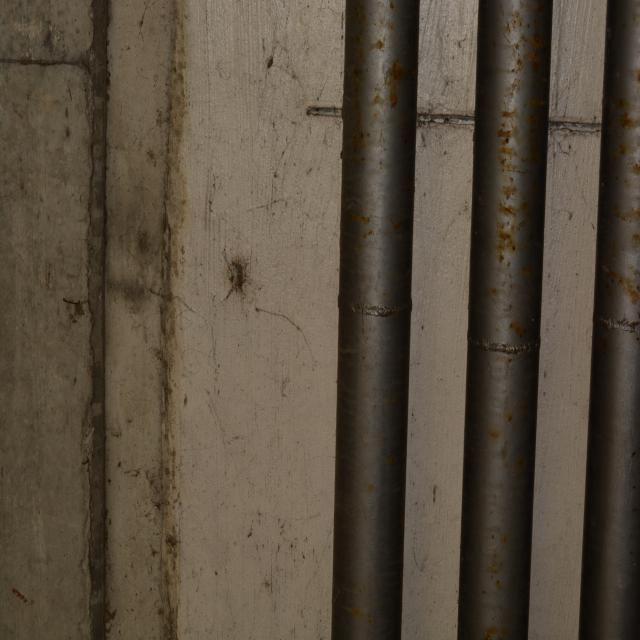corrosion: (335, 0, 409, 640), (473, 2, 538, 640), (598, 0, 640, 640)
